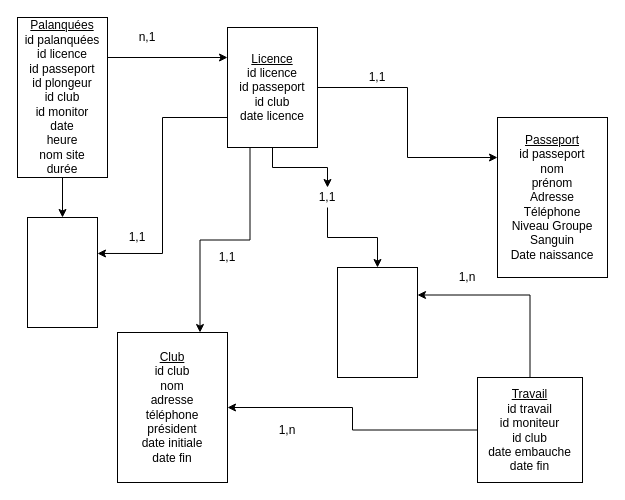
Some shapes in this 625 by 500 pixel diagram are drawn without their labels. The centre of each missing label's shape, as x and y in pixels:
Moniteur id moniteur id passeport id licence: (377,322)
Plongeur id plongeur id licence id passeport id club: (62,272)
